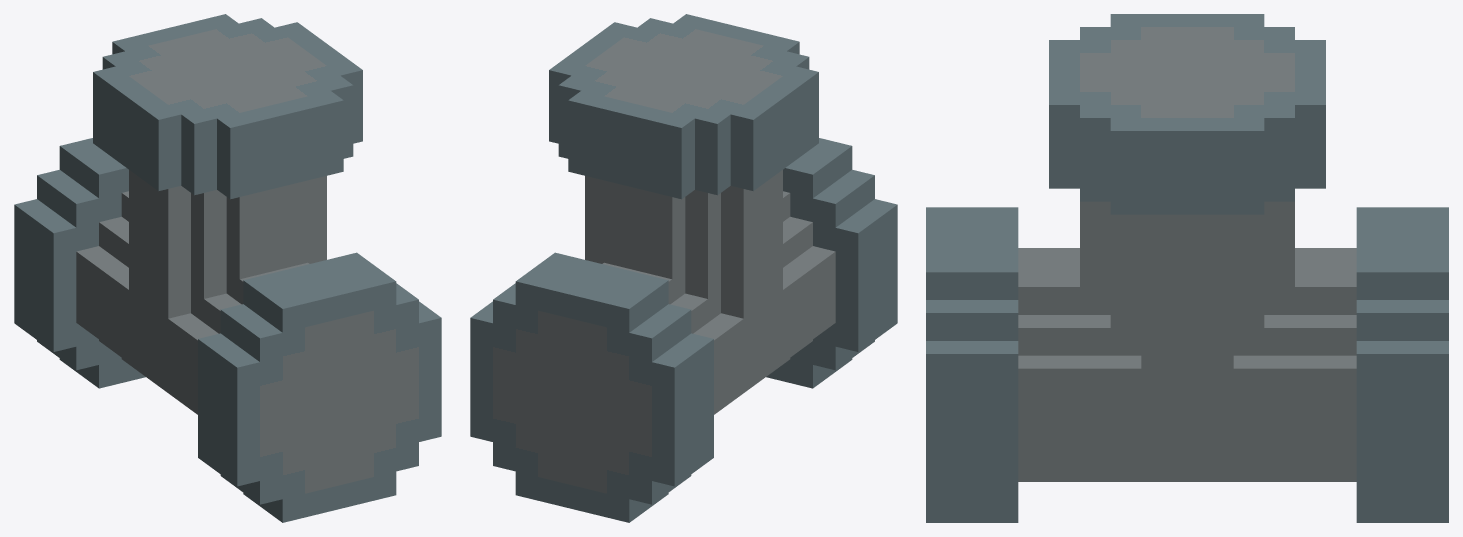
File: RURA_T_MALA.dae
3 views of the same model, side by side, from view 1: azimuth 30°, elevation 25°; view 2: azimuth 150°, elevation 25°; view 3: azimuth 270°, elevation 25° (orthographic). The views are drawn at different scales.
Visible parts, largest first — view 1: Content; view 2: Content; view 3: Content.
Part boxes in pixels (x1=…): Content: x1=14, y1=14, x2=441, y2=522; Content: x1=470, y1=14, x2=897, y2=522; Content: x1=926, y1=14, x2=1448, y2=522.
Bounding box in the file's own units: 9 × 15 × 17.
Materials: 1 (1 with a texture image).
